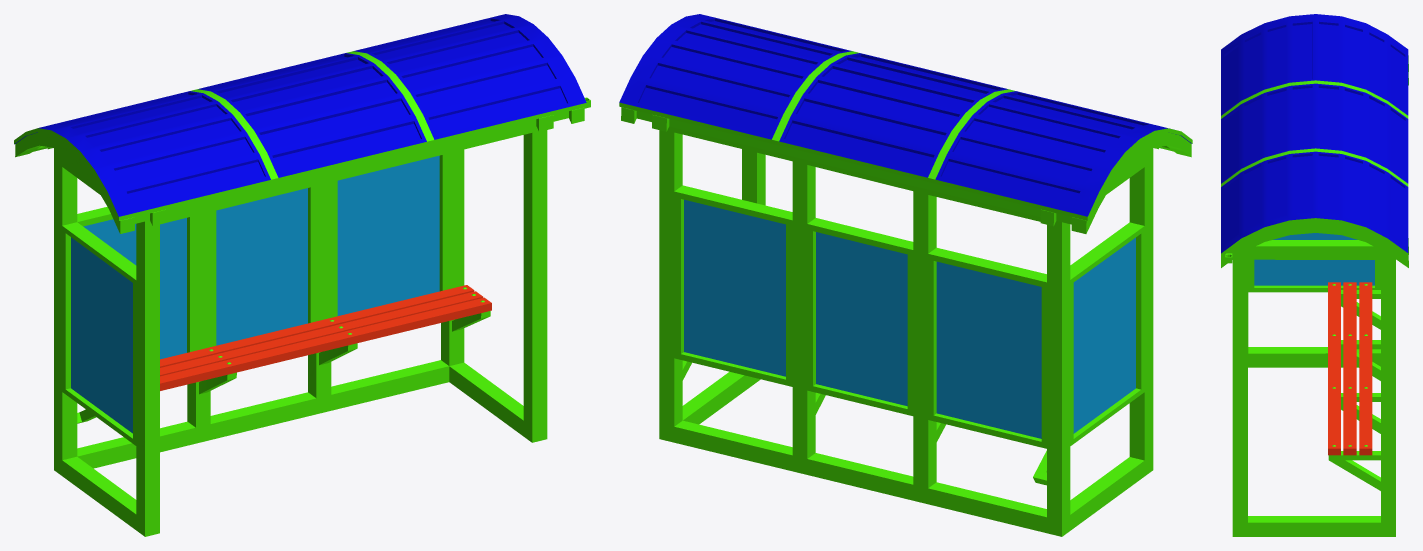
File: busstop.fbx
3 renders of one model, left to right at view 1: azimuth 30°, elevation 25°; view 2: azimuth 150°, elevation 25°; view 3: azimuth 270°, elevation 25°, orthographic. The views are drawn at different scales.
Visible parts, largest first — view 1: Cube; view 2: Cube; view 3: Cube.
Part boxes in pixels (<box>): Cube: <box>14,14,590,536</box>; Cube: <box>619,14,1192,536</box>; Cube: <box>1221,14,1408,536</box>.
Bounding box in the file's own units: 944 × 709 × 362.
